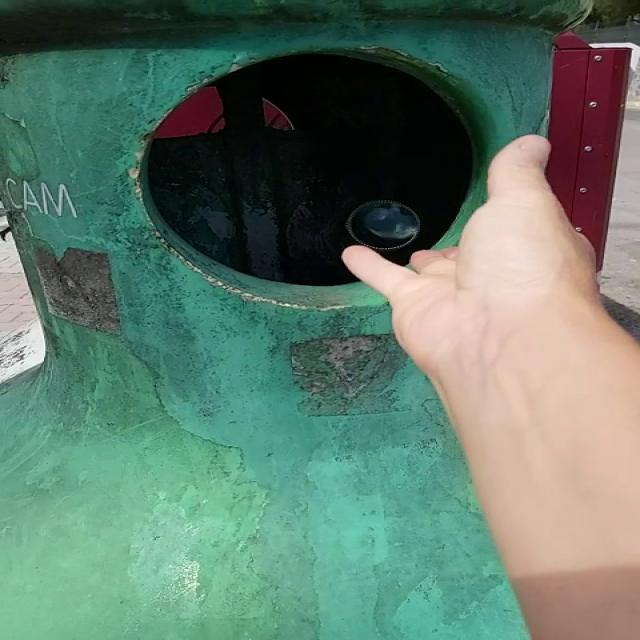Glass: (347, 201, 421, 251)
